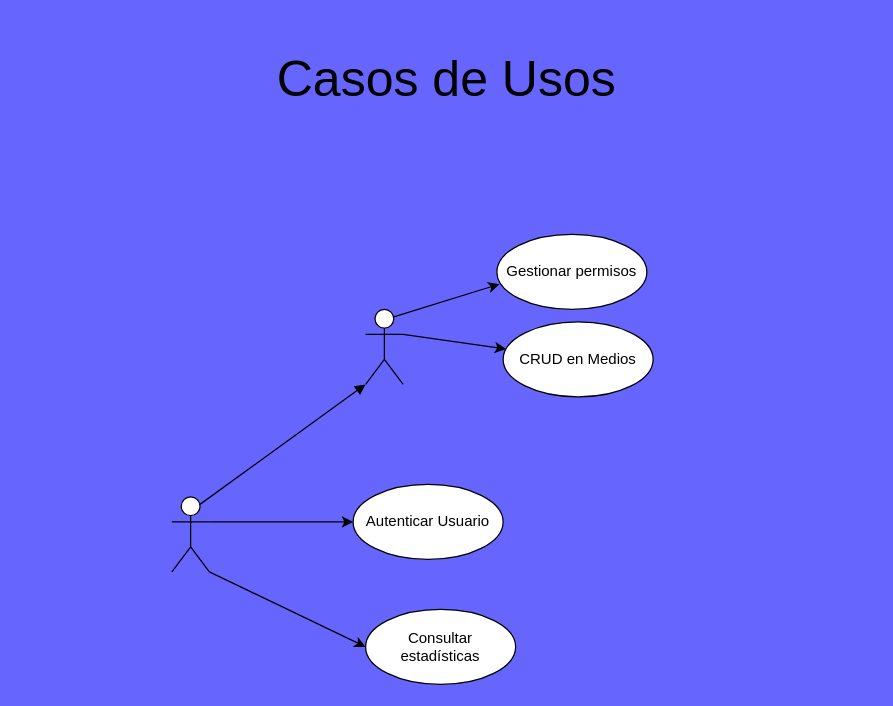
Some shapes in this 893 by 706 pixel diagram are drawn without their labels. The centre of each missing label's shape, as x and y in pixels:
Manager: the point at 383,346
Usuario: the point at 190,534
